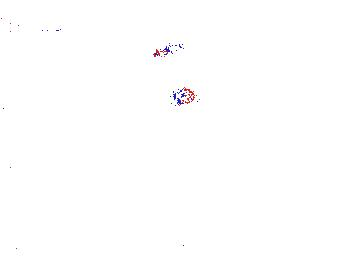red belly glassfish: (169, 87, 196, 108), (153, 42, 184, 60)
redtail glassfish: (1, 8, 62, 48)
